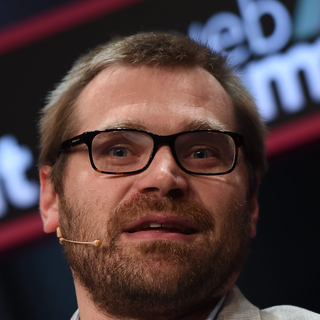eye: (98, 142, 141, 164), (185, 143, 226, 166)
